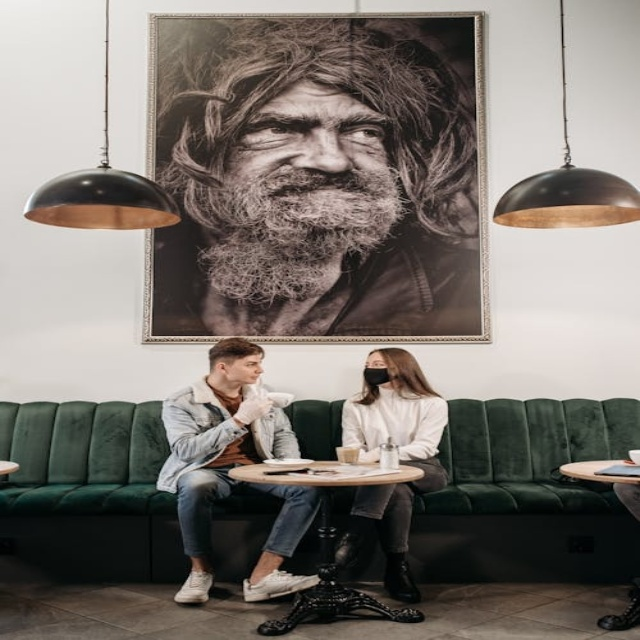Guantes: (228, 394, 275, 426)
Mascara: (363, 367, 391, 386)
Sin_gafas: (247, 108, 384, 154), (234, 358, 264, 368), (364, 360, 385, 367)
Sin_mascara: (262, 170, 370, 229), (238, 370, 264, 385)
